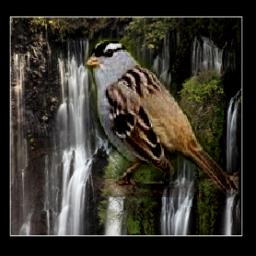Sparrow: (86, 38, 239, 197)
